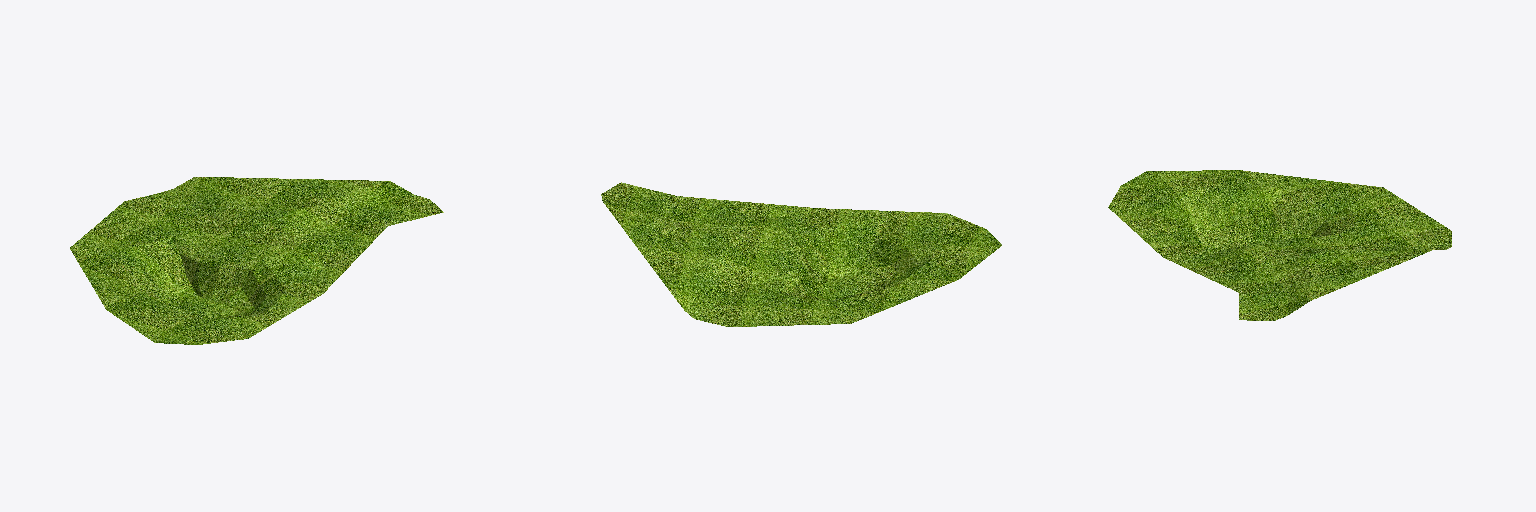
3 views of the same model, side by side, from view 1: azimuth 30°, elevation 25°; view 2: azimuth 150°, elevation 25°; view 3: azimuth 270°, elevation 25° (orthographic).
Parts seen in each view (by area): view 1: Plane; view 2: Plane; view 3: Plane.
Part boxes in pixels (bbox=[...]): Plane: bbox=[70, 177, 443, 344]; Plane: bbox=[601, 182, 1001, 326]; Plane: bbox=[1108, 170, 1451, 320].
Bounding box in the file's own units: 20.27 × 3.14 × 17.7.
1 materials, 1 textured.